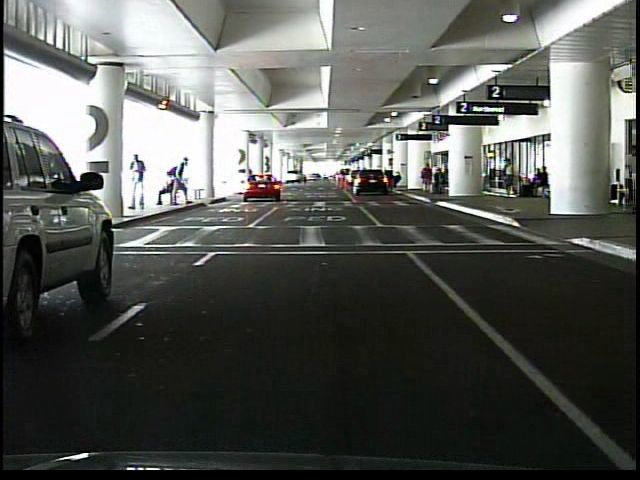person: (167, 159, 195, 207), (129, 153, 147, 210), (155, 171, 181, 208), (622, 143, 637, 178), (419, 163, 434, 197), (503, 158, 515, 199), (440, 166, 441, 194)
